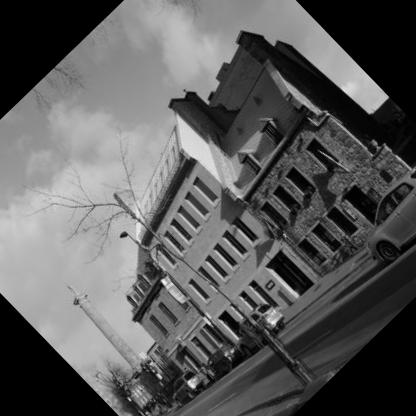car: (341, 144, 416, 282), (229, 290, 301, 361), (201, 342, 243, 384), (169, 369, 211, 410)
